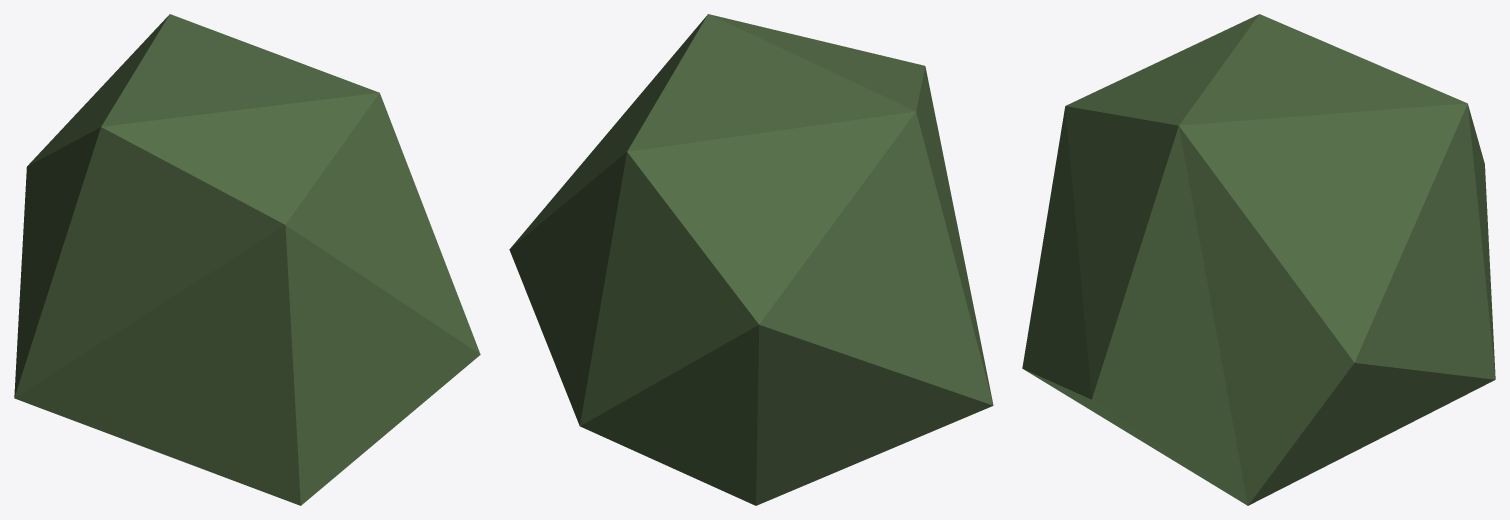
Rendered from Bush_2.lod4.glb.
3 renders of one model, left to right at view 1: azimuth 30°, elevation 25°; view 2: azimuth 150°, elevation 25°; view 3: azimuth 270°, elevation 25°, orthographic. The views are drawn at different scales.
Visible parts, largest first — view 1: Bush_2; view 2: Bush_2; view 3: Bush_2.
Part boxes in pixels (x1,y1,x2,y2): Bush_2: [14, 14, 480, 505]; Bush_2: [509, 14, 993, 505]; Bush_2: [1022, 14, 1495, 505].
Size of the model in its own units: 1.37 by 1.04 by 1.31.
